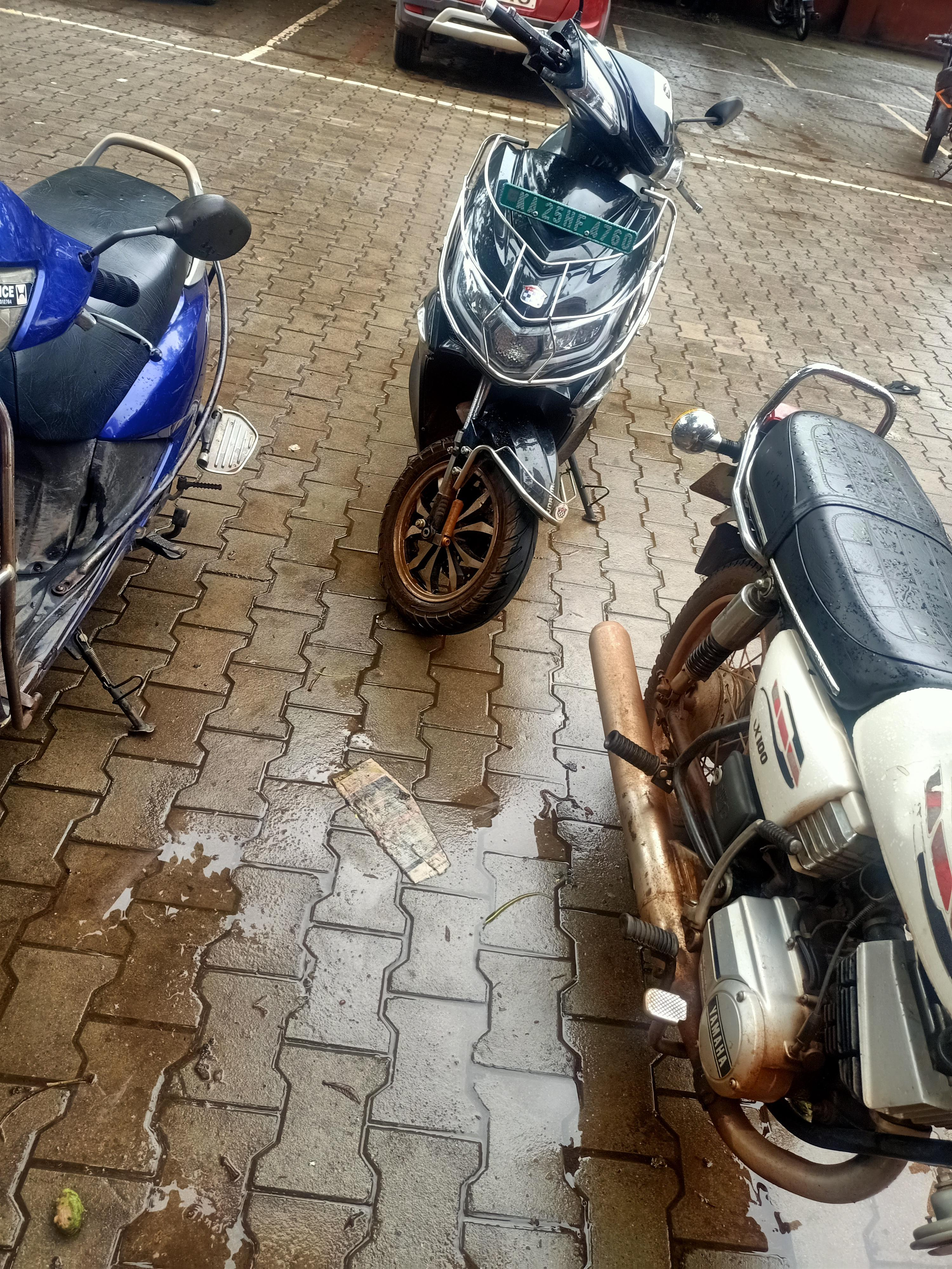green license plate: (498, 179, 643, 266)
